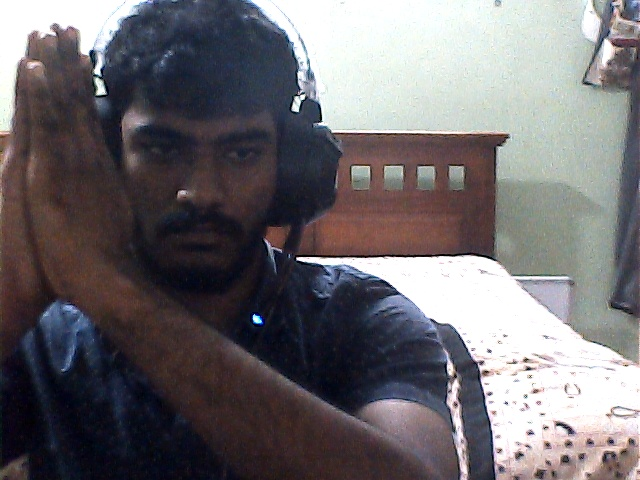Sign: (3, 21, 134, 308)
